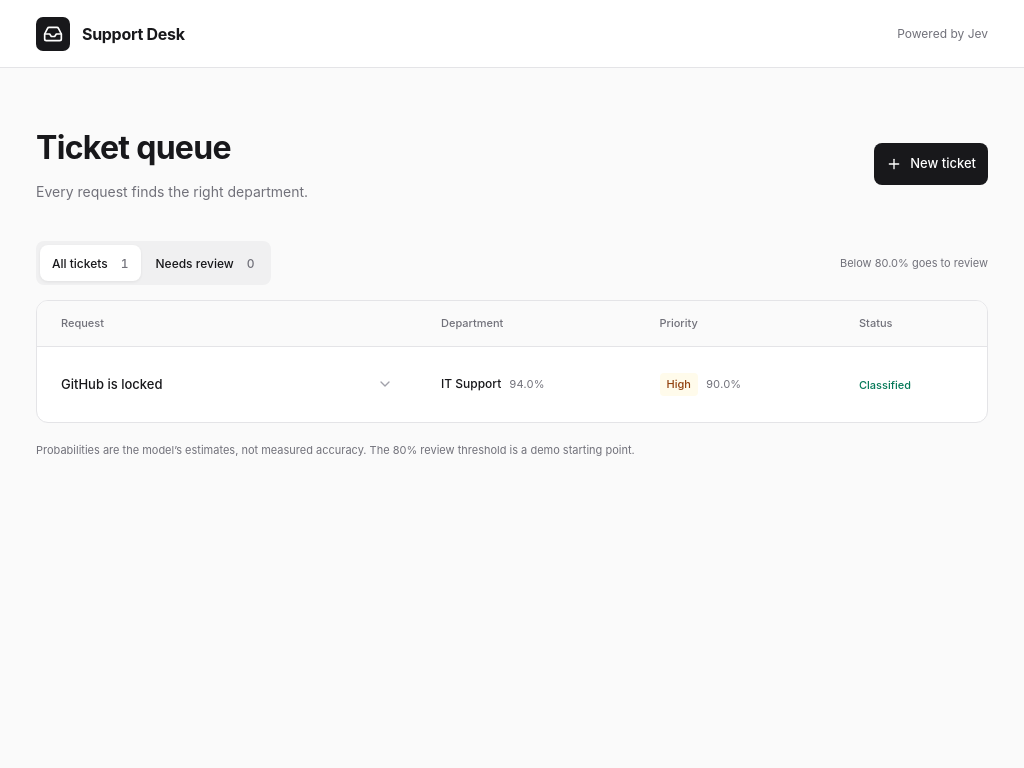
Test case: needs review filter excludes accepted tickets
The image size is (1024, 768).
Click the button "Needs review 0": (205, 263) [144,245,266,281]
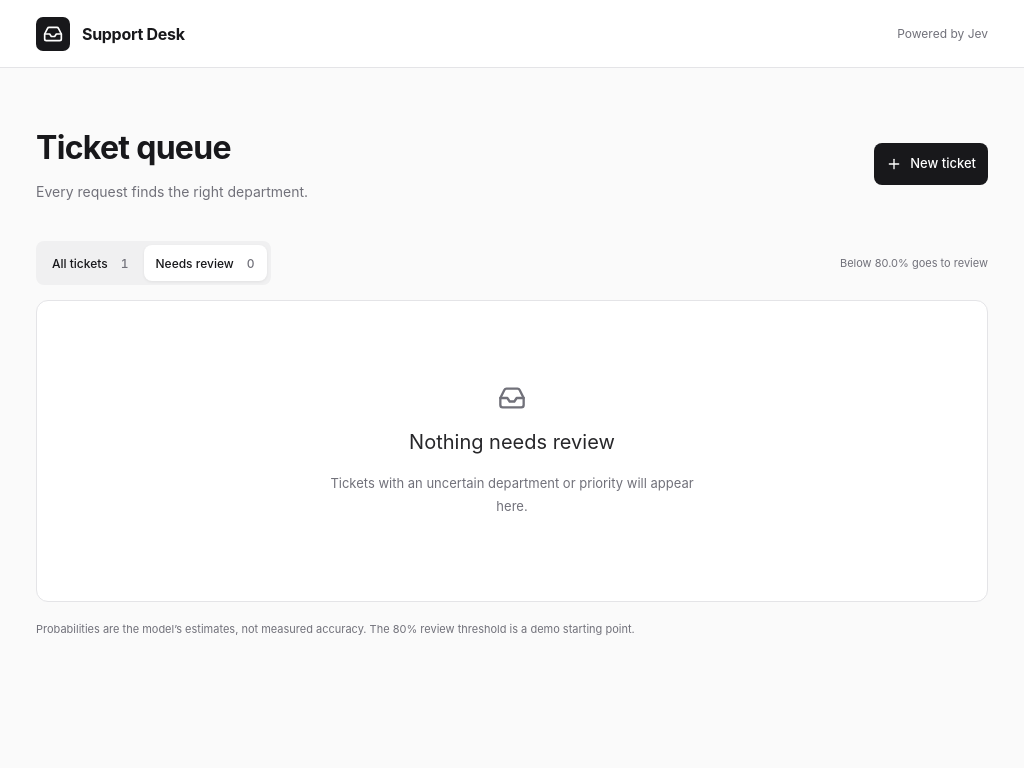
Expected: the heading "Nothing needs review" is shown, [409,427,615,457]
